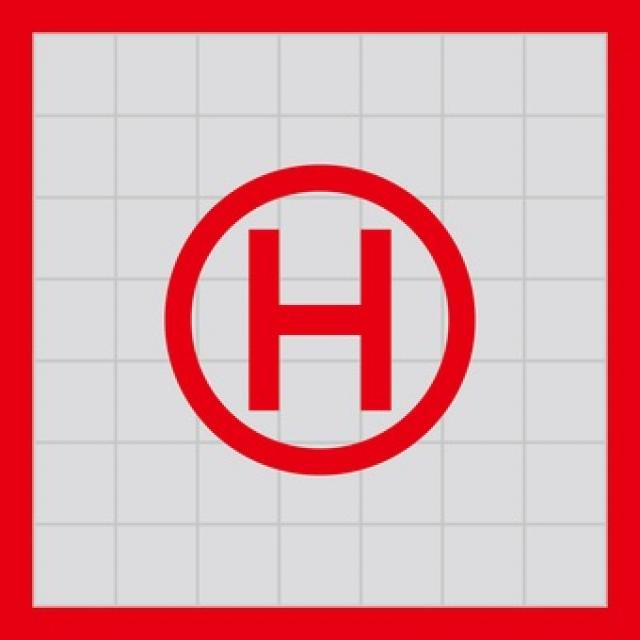helipad: (152, 152, 482, 480)
